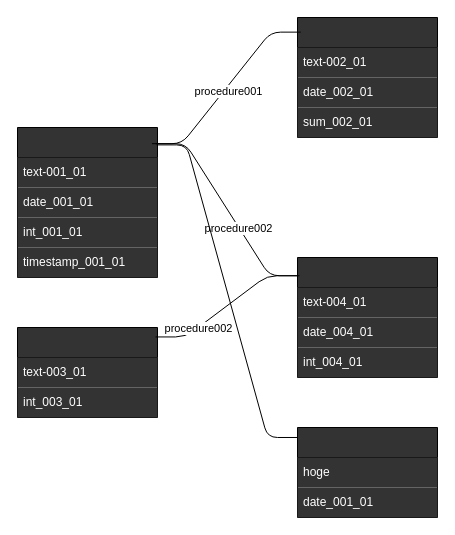
The diagram is 455 pixels wide and 535 high, and some of its shapes have lost their labels. Each missing label, with the box of its shape:
table001: (16, 126, 158, 278)
table002: (296, 16, 438, 138)
table003: (16, 326, 158, 418)
table004: (296, 256, 438, 378)
view001: (296, 426, 438, 518)
